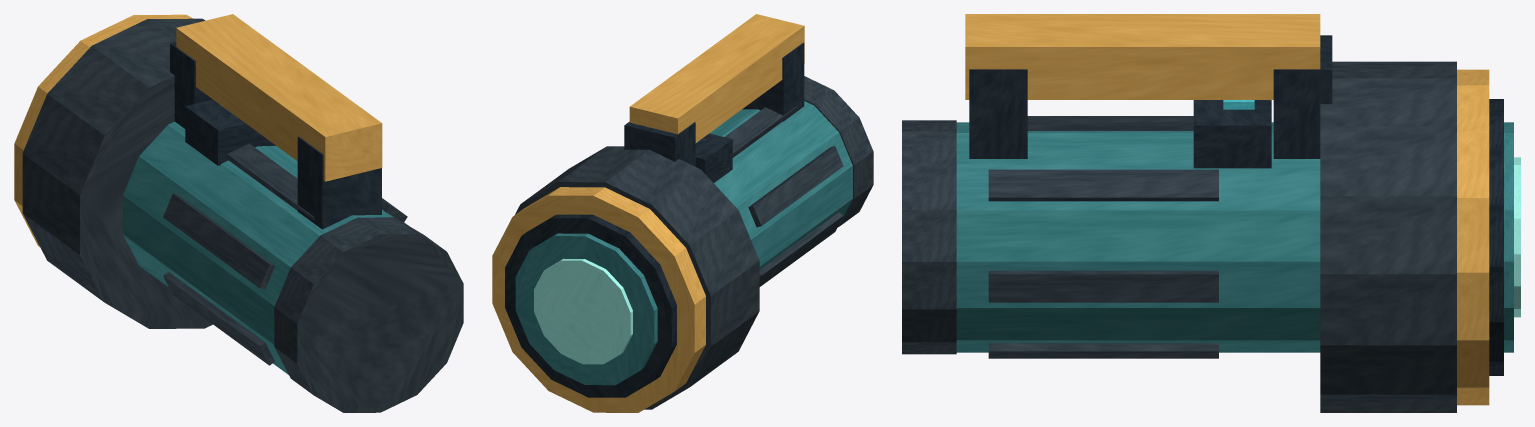
Rendered from Lampara_Submarina.fbx.
3 views of the same model, side by side, from view 1: azimuth 30°, elevation 25°; view 2: azimuth 150°, elevation 25°; view 3: azimuth 270°, elevation 25° (orthographic). The views are drawn at different scales.
Visible parts, largest first — view 1: Lampara_Submarina; view 2: Lampara_Submarina; view 3: Lampara_Submarina.
Boxes of the visible parts, bbox=[...] form: Lampara_Submarina: bbox=[14, 14, 463, 412]; Lampara_Submarina: bbox=[492, 14, 873, 412]; Lampara_Submarina: bbox=[902, 14, 1520, 412].
Size of the model in its own units: 1.05 by 1.89 by 1.23.
Materials: 1 (1 with a texture image).
